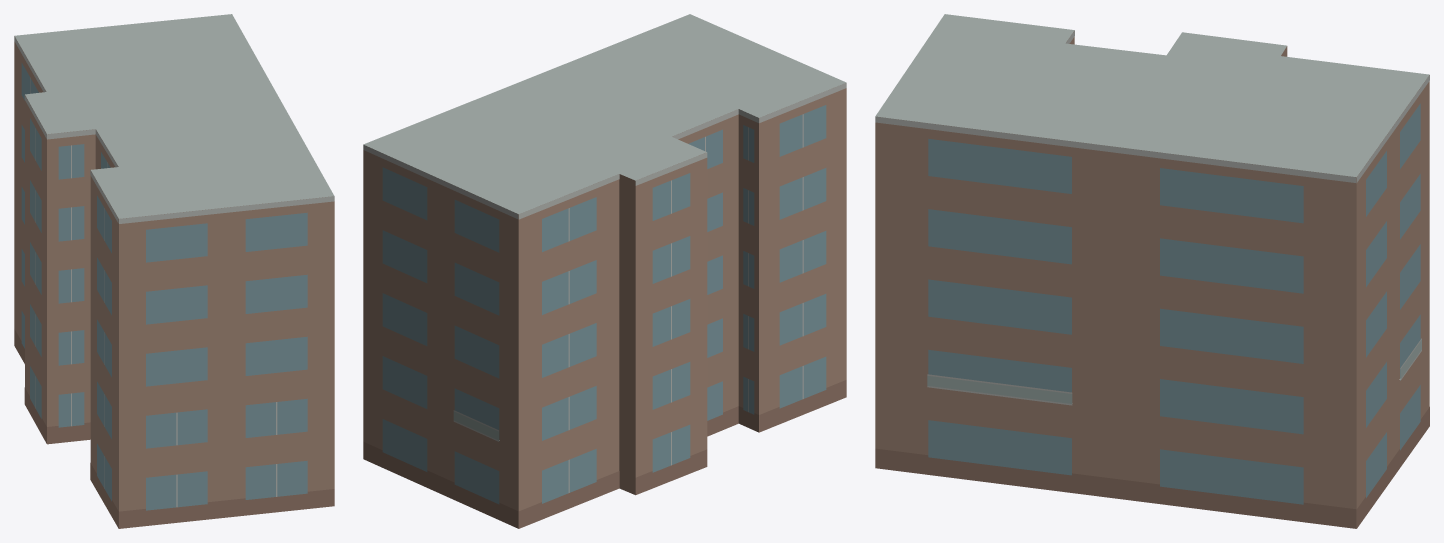
File: survey-upis-32873963.glb
3 views of the same model, side by side, from view 1: azimuth 30°, elevation 25°; view 2: azimuth 150°, elevation 25°; view 3: azimuth 270°, elevation 25° (orthographic). The views are drawn at different scales.
Parts seen in each view (by area): view 1: survey-upis-32873963.tmp; view 2: survey-upis-32873963.tmp; view 3: survey-upis-32873963.tmp.
Boxes of the visible parts, left/top/right/bottom form: survey-upis-32873963.tmp: left=14, top=14, right=334, bottom=528; survey-upis-32873963.tmp: left=363, top=14, right=846, bottom=528; survey-upis-32873963.tmp: left=875, top=14, right=1429, bottom=528.
Bounding box in the file's own units: 14.24 × 14.3 × 20.45.
